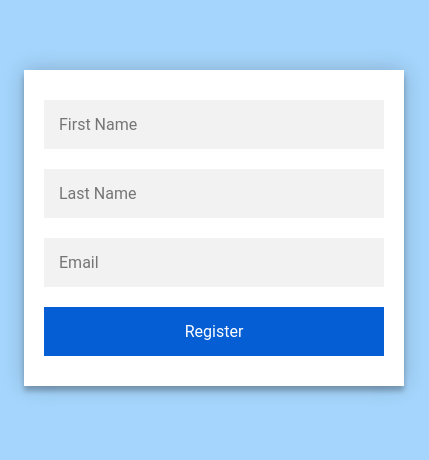
Test: Cypress › submit form without filling the form, proper error messages should be display
The width and height of the screenshot is (429, 460).
Type "Harsha" into the field with id "first-name" at (214, 125), box [44,100,384,149]
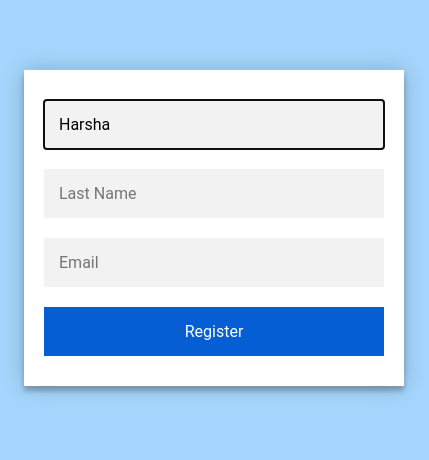
Type "Liyanage" into the field with id "last-name" at (214, 194), box [44,169,384,218]
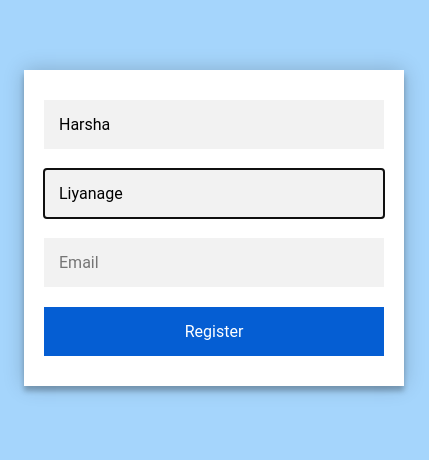
Click the button with class "form-field" showing "Register" at (214, 332), box [44,307,384,356]
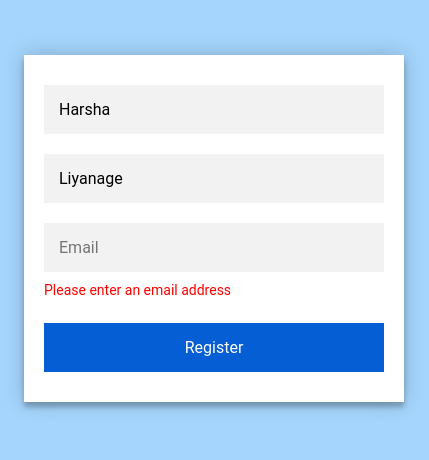
Now the text with id "email-error" reads "Please enter an email address", box [44,282,231,298]
Clear the field with id "last-name" at (214, 179), box [44,154,384,203]
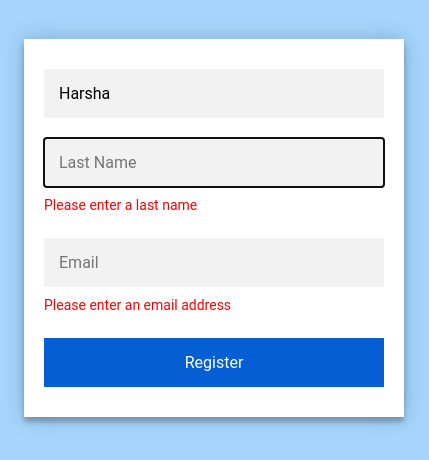
Now the text with id "last-name-error" reads "Please enter a last name", box [44,197,197,213]
Clear the field with id "first-name" at (214, 94), box [44,69,384,118]
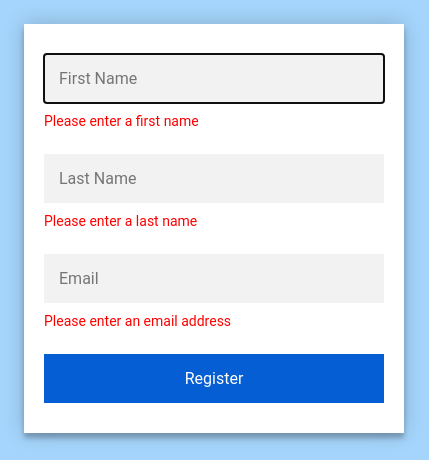
Now the text with id "first-name-error" reads "Please enter a first name", box [44,113,199,129]
